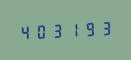four: (17, 22, 32, 41)
nine: (82, 19, 97, 38)
one: (66, 19, 81, 39)
three: (50, 20, 65, 40), (98, 18, 113, 37)
zero: (33, 21, 48, 40)
